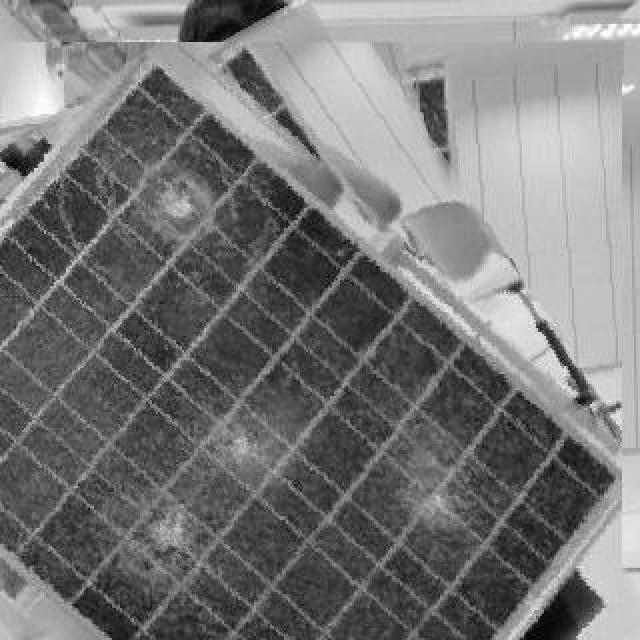Physical-damage: (94, 149, 264, 262), (377, 447, 485, 557), (197, 398, 281, 496), (129, 502, 226, 568)
